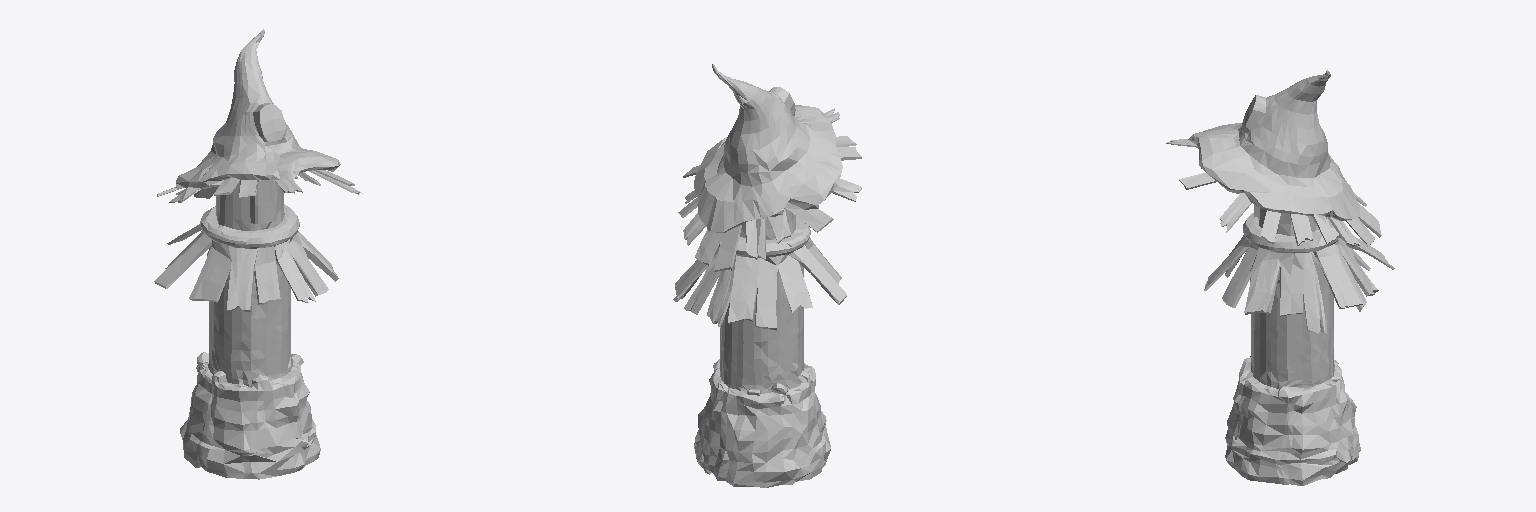
The model's file is HexTower_LP.obj.
3 renders of one model, left to right at view 1: azimuth 30°, elevation 25°; view 2: azimuth 150°, elevation 25°; view 3: azimuth 270°, elevation 25°, orthographic.
Parts seen in each view (by area): view 1: HexTower_LP_original_pos; view 2: HexTower_LP_original_pos; view 3: HexTower_LP_original_pos.
Part boxes in pixels (x1,y1,x2,y2): HexTower_LP_original_pos: (154, 29, 362, 479); HexTower_LP_original_pos: (673, 64, 861, 487); HexTower_LP_original_pos: (1166, 70, 1394, 485).
Size of the model in its own units: 7.53 by 16.56 by 8.54.